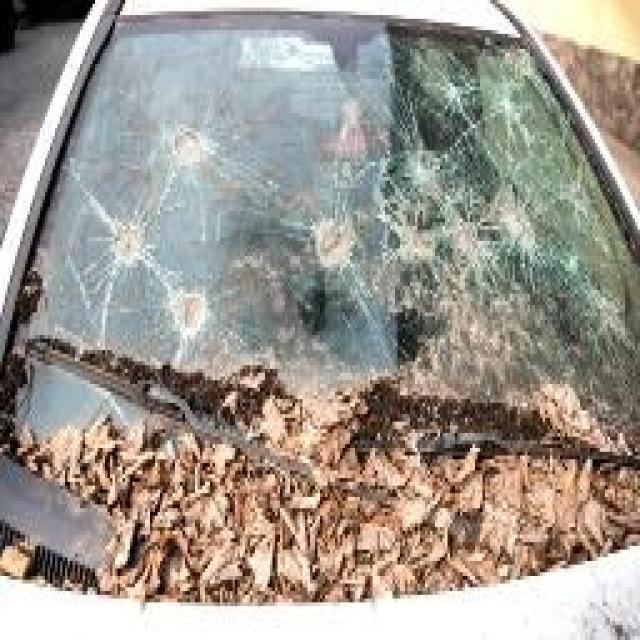Windshield: (6, 21, 640, 545)
